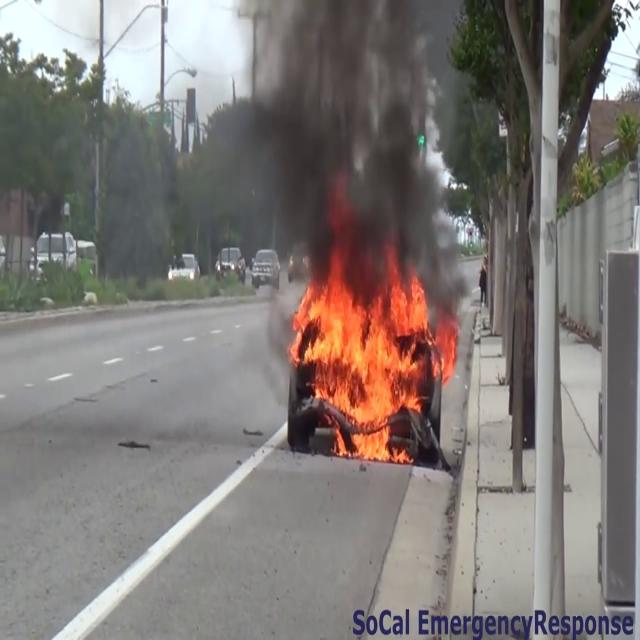Fire: (289, 265, 447, 459)
Smoke: (231, 0, 477, 286)
